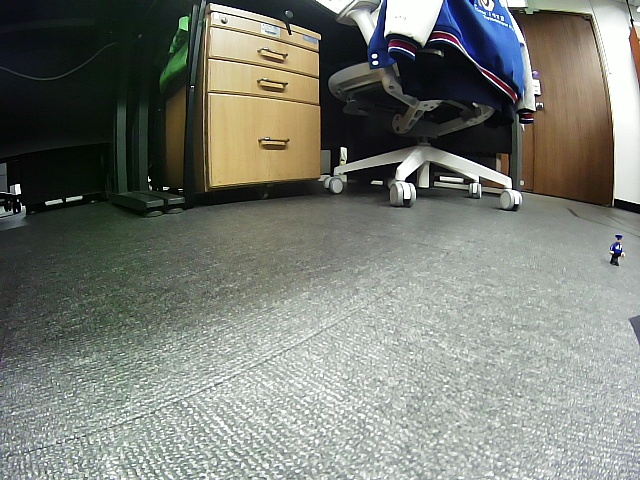person: (610, 233, 625, 267)
